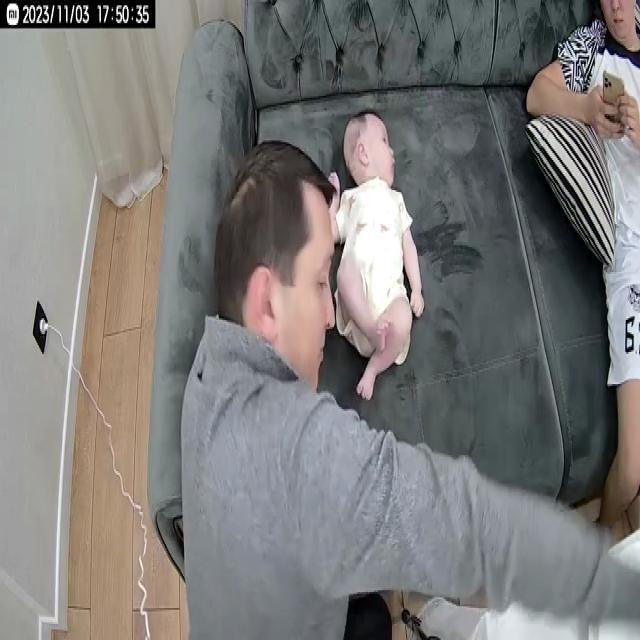baby: (323, 109, 426, 409)
